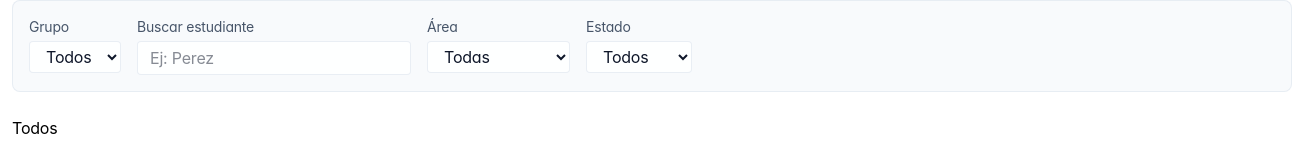
Test: FiltersBar › updates search filter when input changes
Type "Perez" into the field labelled "Buscar estudiante" at [274, 58], box top-left (137, 41), bottom-right (411, 75)
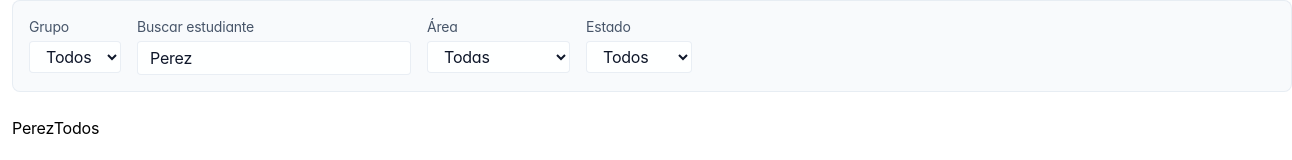
Check: the text with test id "search-output" reads "Perez", box top-left (12, 118), bottom-right (54, 138)
